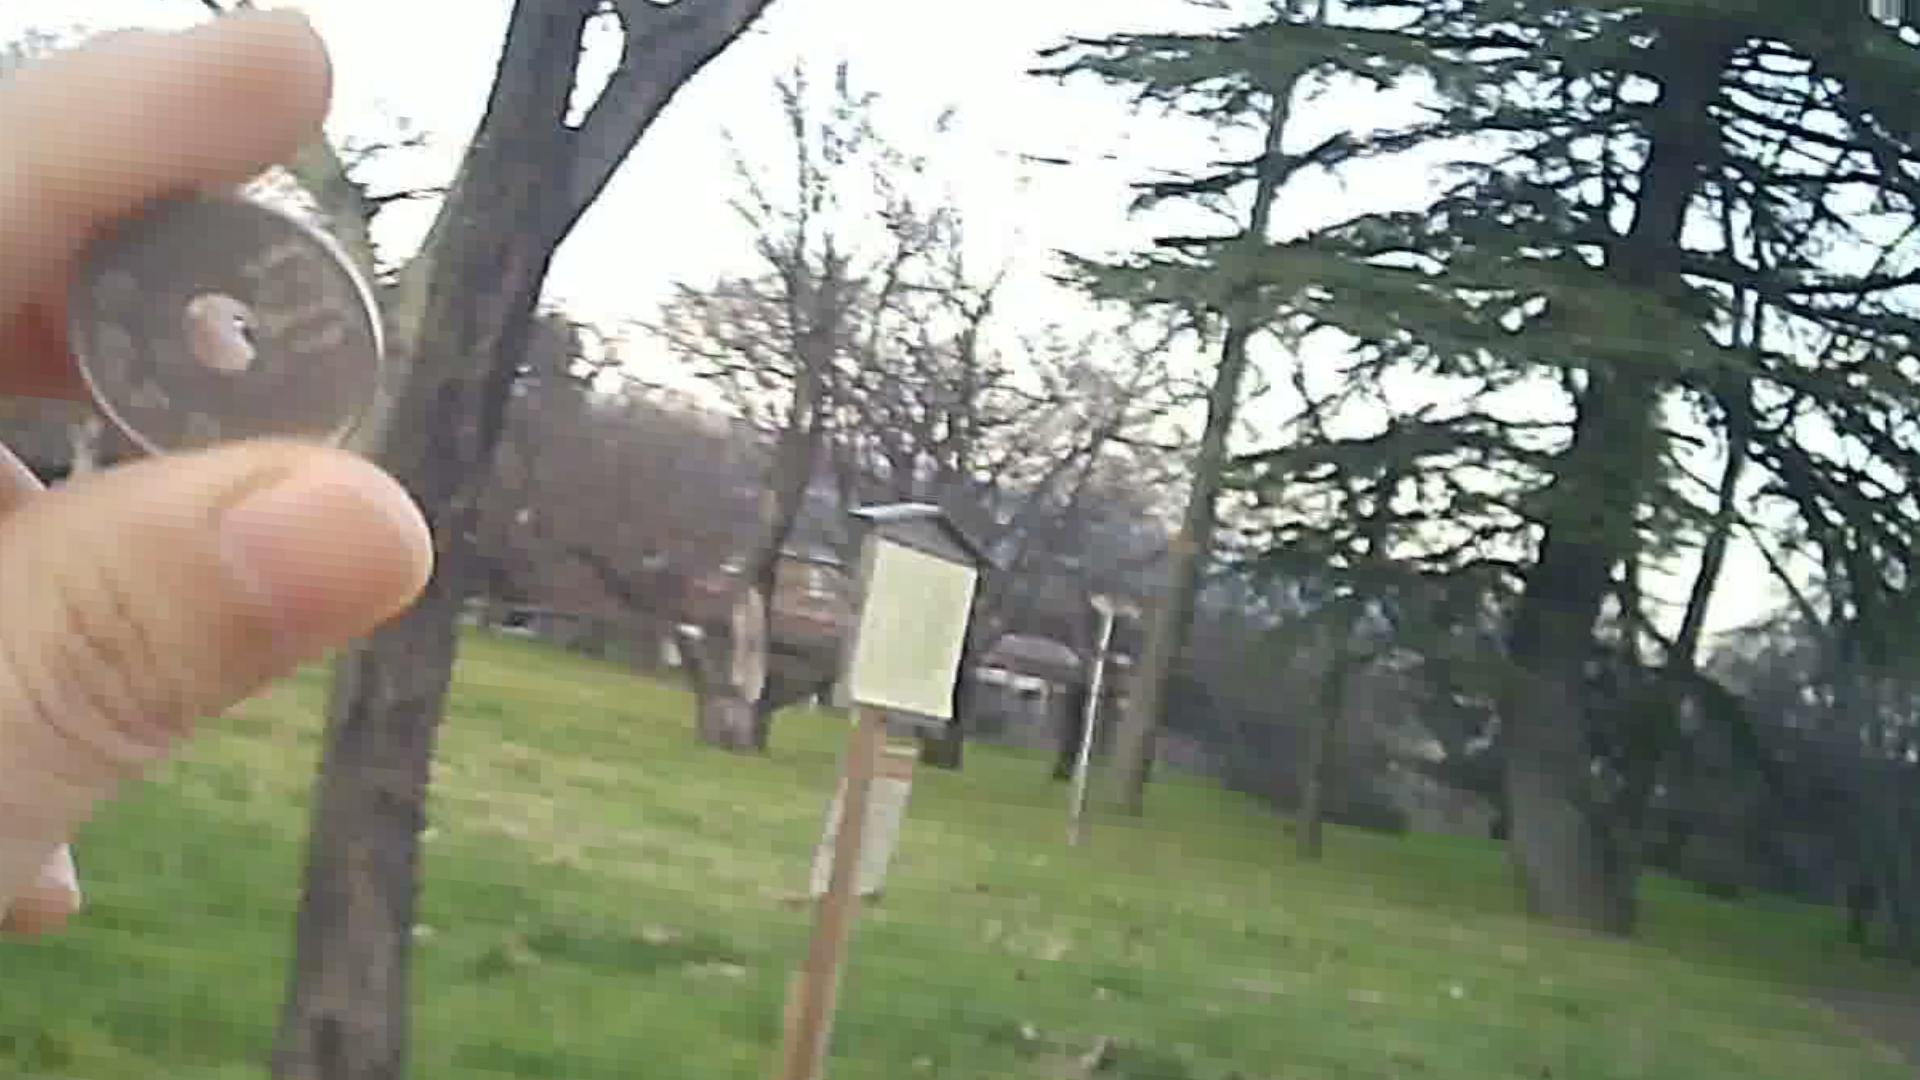50 Yen: (49, 189, 365, 472)
